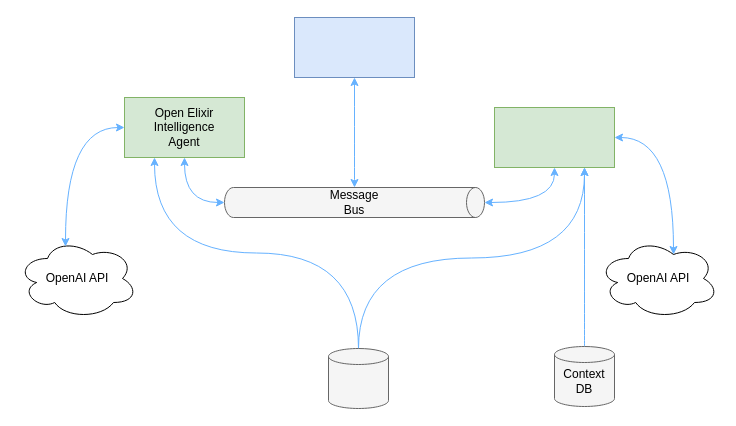
Image size: 736x426. Some labels were removed from this diagram. The shapes that lost their labels are listed below. From the top down, each one's centre as x and y in pixels, then its label:
At (354,47): "Web Front End".
At (554,137): "Open Elixir Self-Healing Intelligence Agent".
At (358,378): "Prompt DB".
